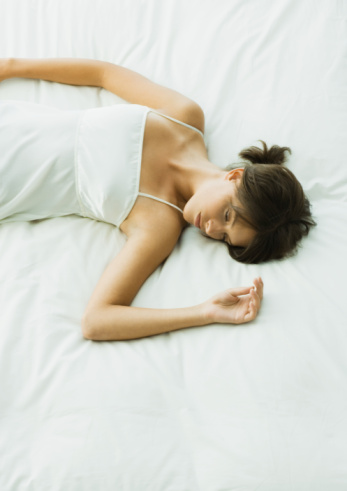deitado: (0, 123, 319, 447)
